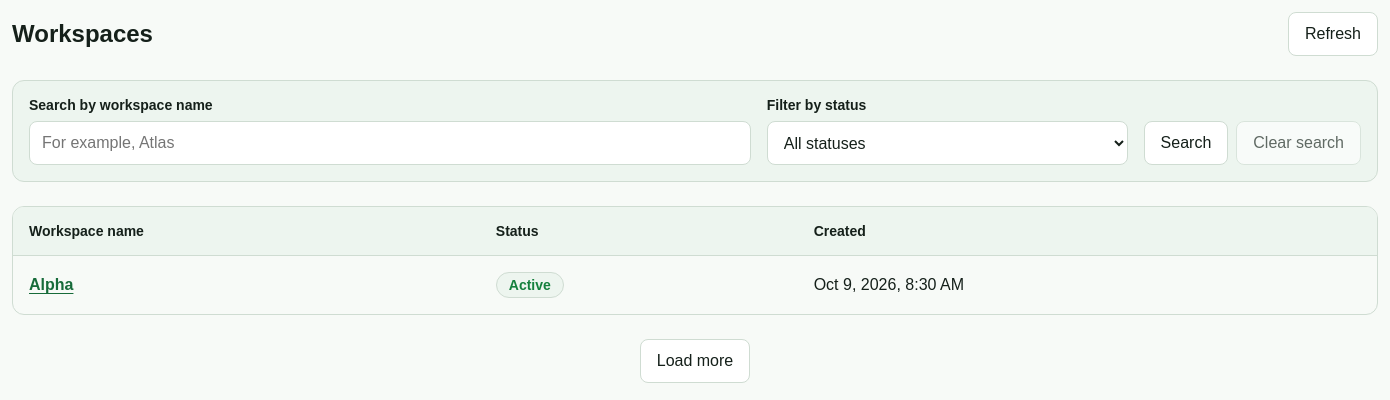
Platform workspace directory › fails closed when a continuation duplicates a previously loaded row
The image size is (1390, 400).
Click the button "Load more".
click(695, 361)  # box [640,339,750,383]
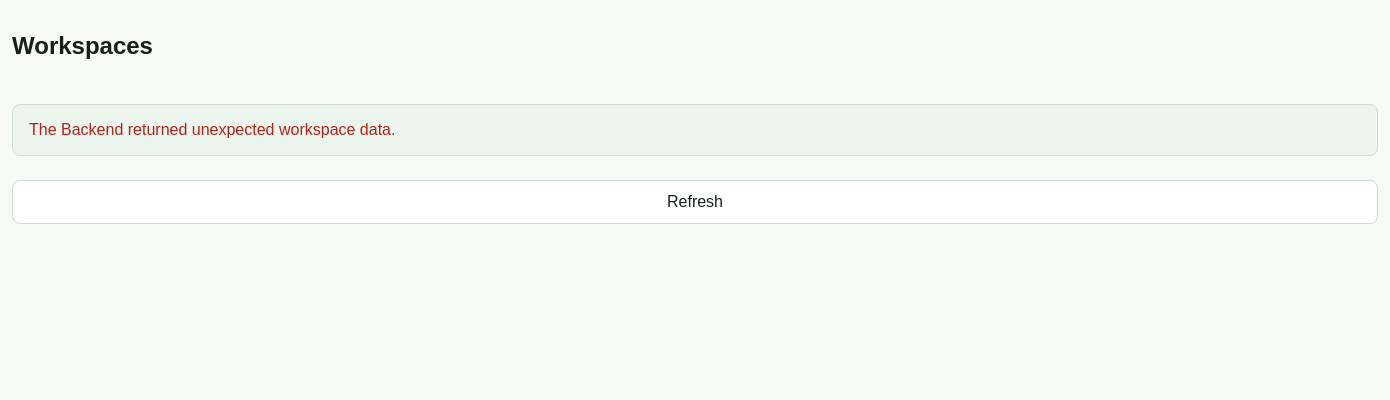
expect the message shows "unexpected workspace data": met, box [29,121,396,138]
expect the link "Alpha" is gone: met
